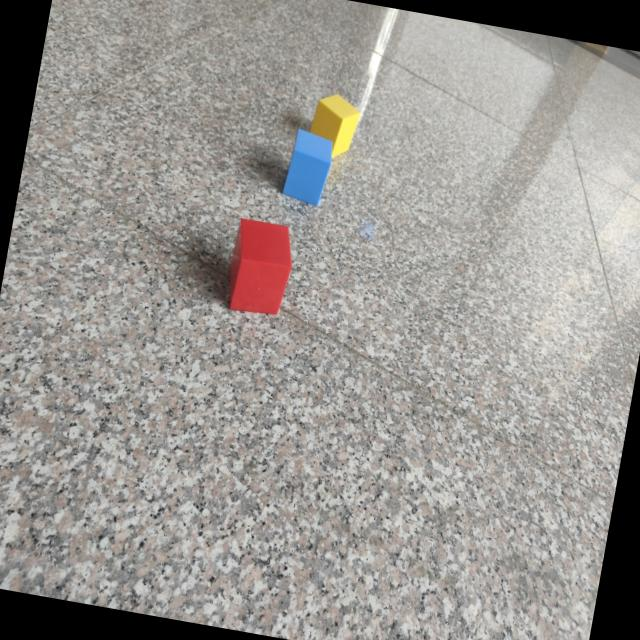blue: (274, 128, 332, 209)
red: (226, 218, 292, 317)
yellow: (308, 87, 365, 161)
